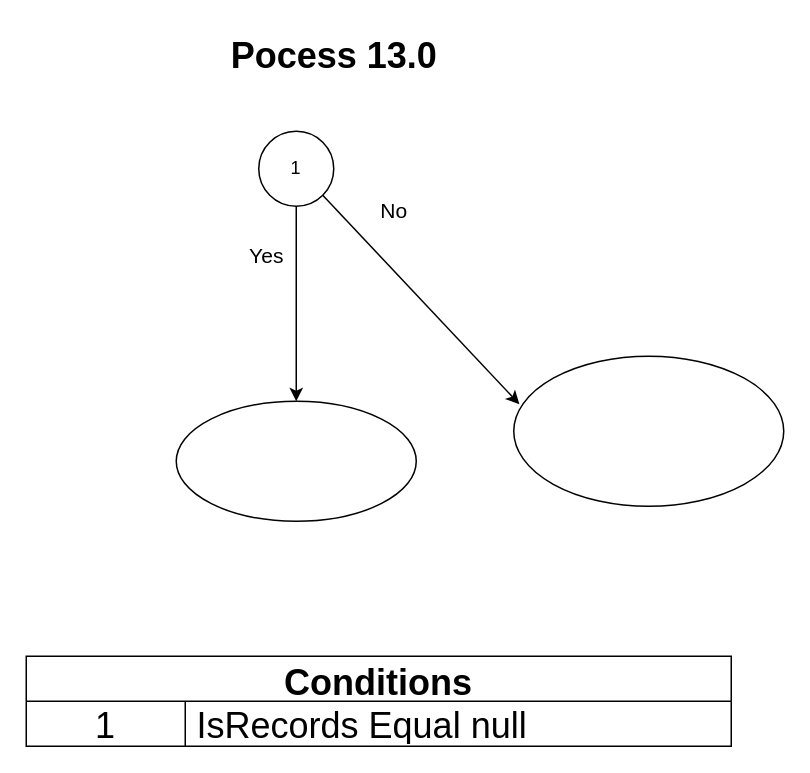
The diagram is 810 pixels wide and 773 high, and some of its shapes have lost their labels. Here are the shapes that lost their labels. From the top down, the centre of each, then its label:
At (648,430): "return NotFound".
At (295,460): "return Journies".
